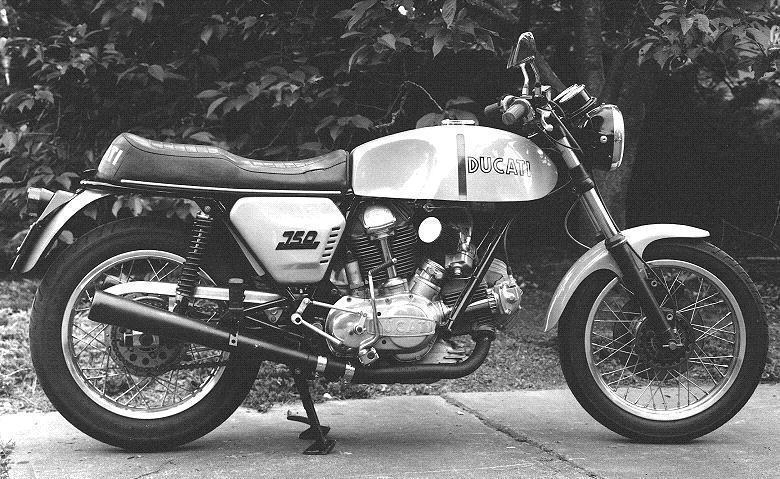motorcycle: (13, 32, 771, 462)
